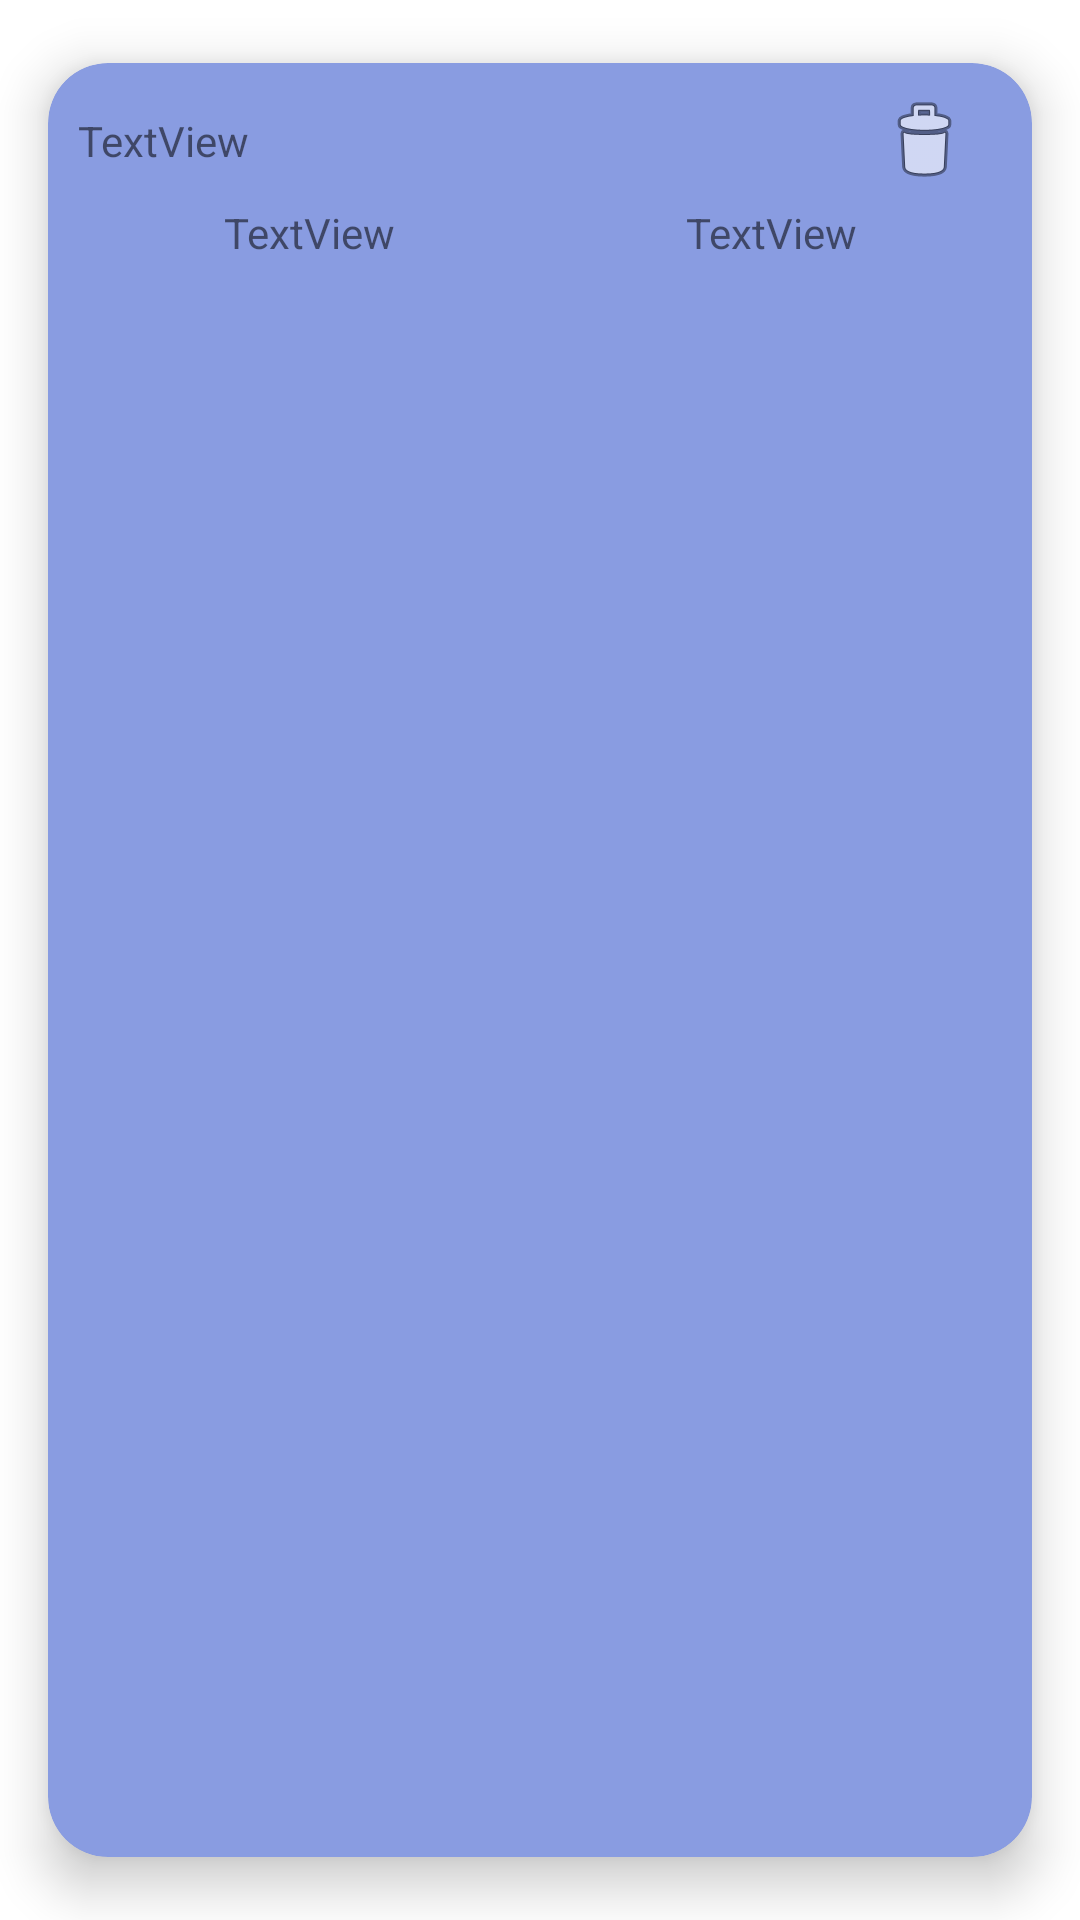

Icons on this 1080x1920 Android screen, each with the point to tap as point (x, y):
delete: point (924, 139)
